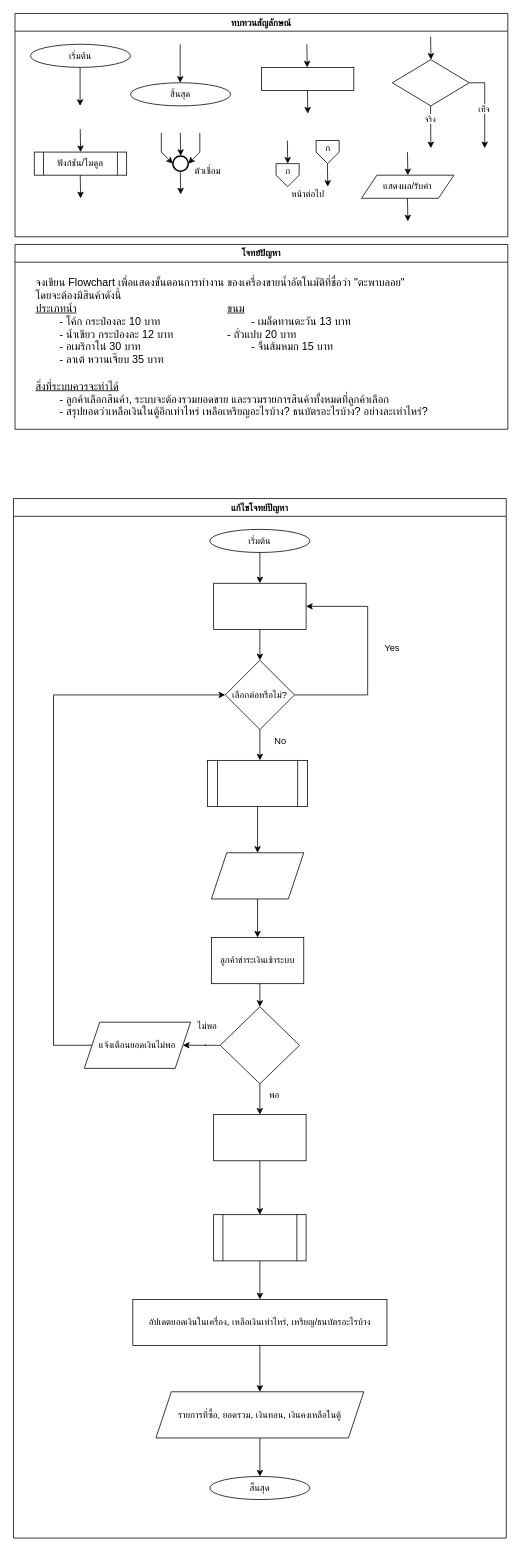
Some shapes in this 521 by 1552 pixel diagram are drawn without their labels. The shapes that lost their labels are listed below. From the top down, each one's box as (x1, y1, x2, y2) in pixels, then its label:
(261, 67, 354, 90): กระบวนการ
(392, 59, 469, 106): ประโยคเงื่อนไข
(213, 583, 306, 629): ลูกค้าเลือกสินค้า
(207, 760, 308, 807): คำนวณยอดรวมราคา
(211, 852, 304, 899): แสดงยอดที่ต้องชำระ
(219, 1006, 300, 1084): ยอดเงินพอหรือไม่?
(213, 1114, 306, 1161): หักยอดเงินที่จ่าย
(213, 1214, 306, 1261): คำนวณเงินทอน
